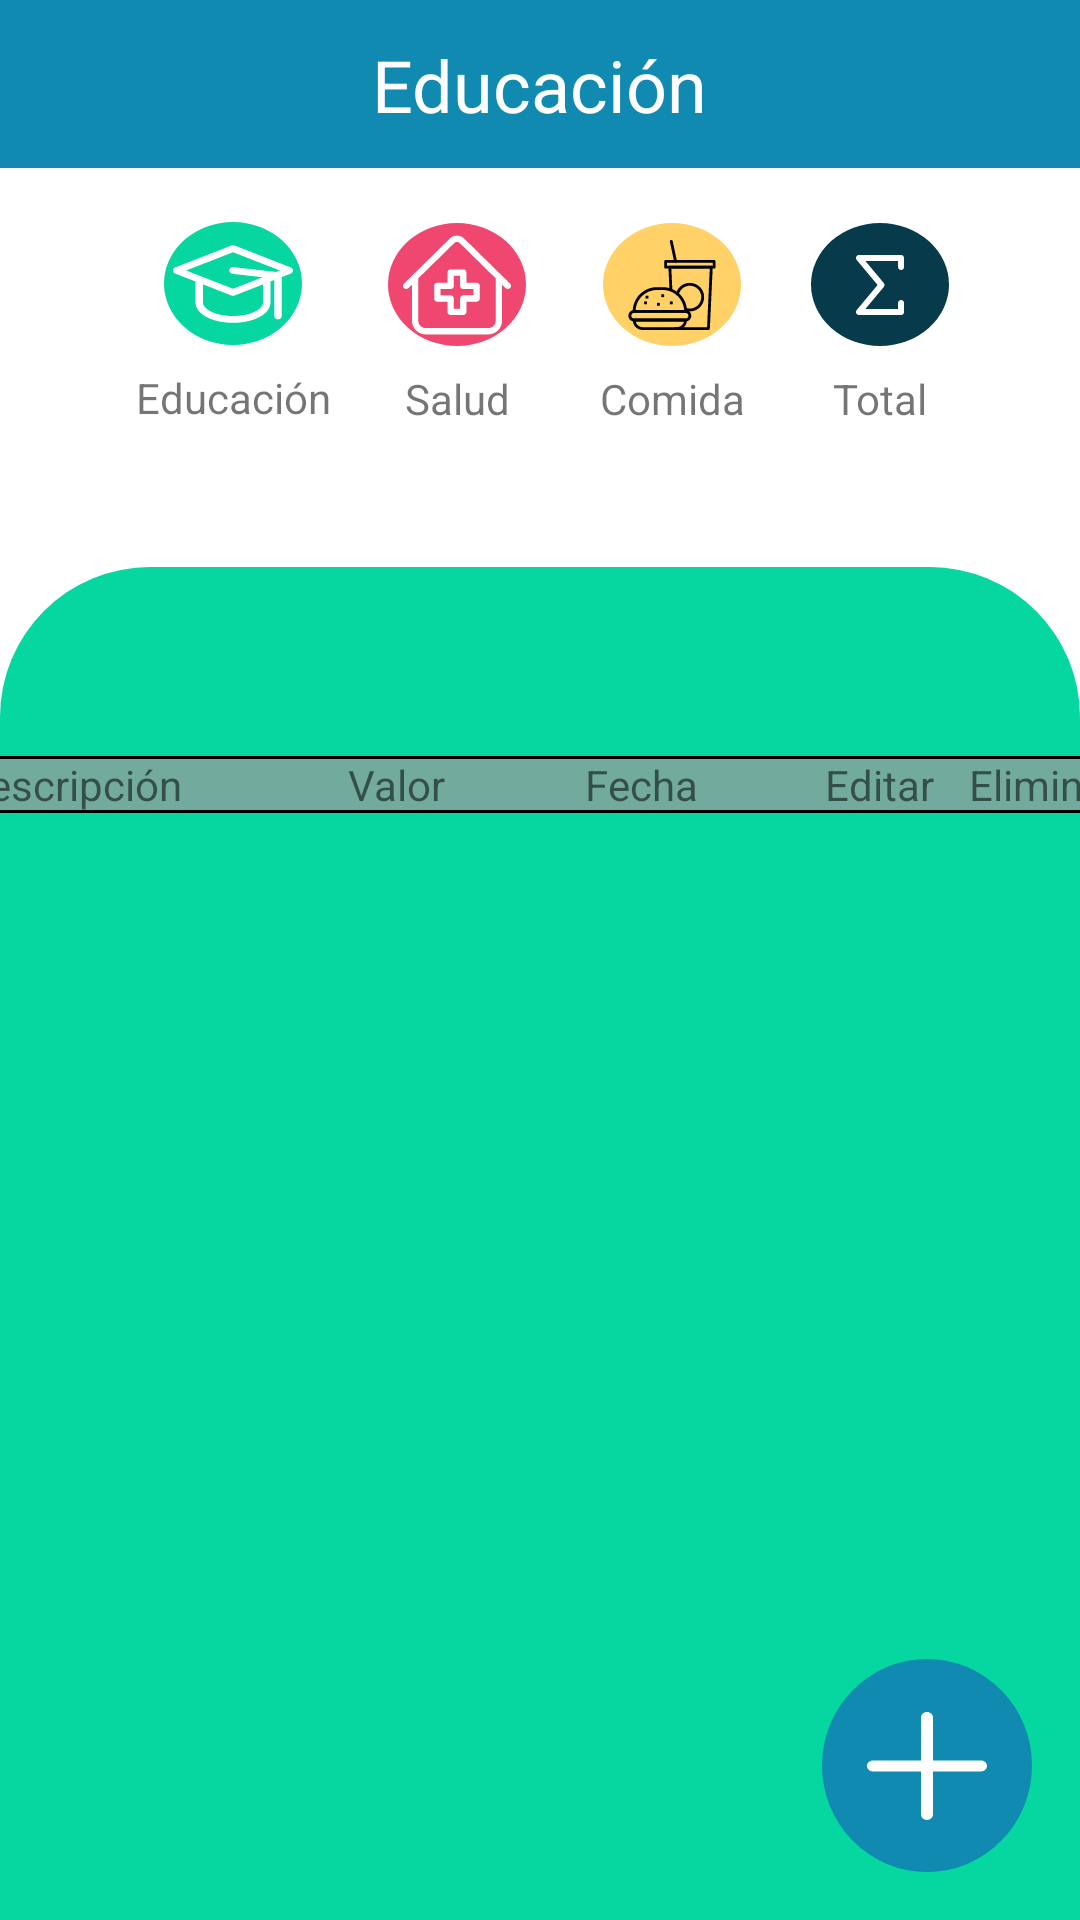

Icon bounding boxes for this 1080px×1920px phone screenshot, format box=[x1, y1, x2, y2]:
hospital: box=[388, 223, 526, 346]
plus: box=[822, 1659, 1032, 1872]
school: box=[164, 222, 302, 345]
